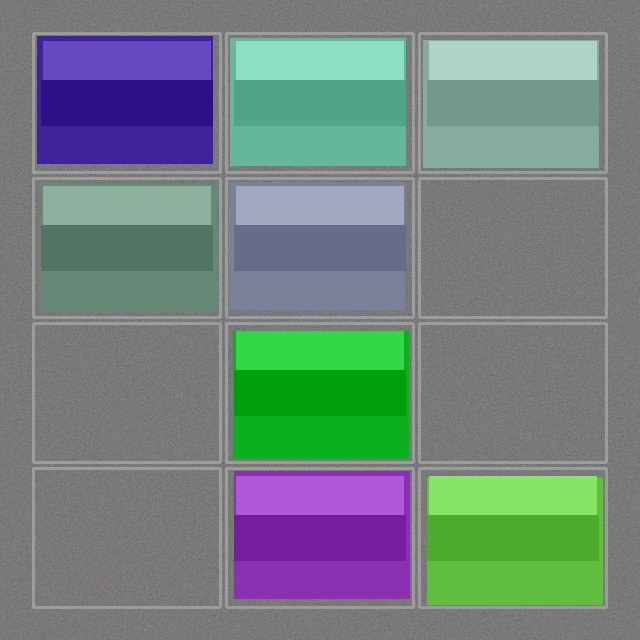space-empty: (421, 180, 604, 315), (35, 325, 218, 460), (421, 325, 604, 460), (35, 470, 218, 605)
space-occupied: (35, 35, 218, 170), (228, 35, 411, 170), (421, 35, 604, 170), (35, 180, 218, 315), (228, 180, 411, 315), (228, 325, 411, 460), (228, 470, 411, 605), (421, 470, 604, 605)
